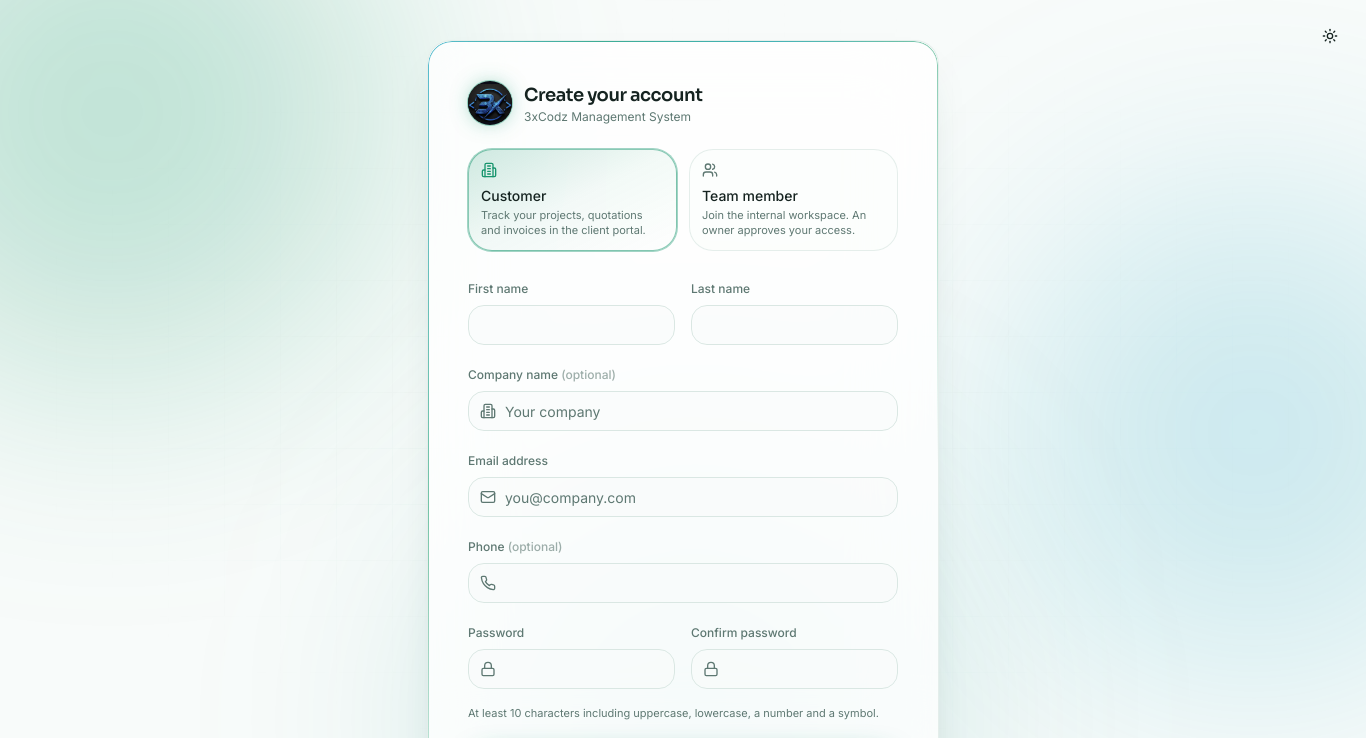
Test: Register › submits a customer registration and confirms the verification email
The image size is (1366, 738).
In the field labelled "First name": {"x": 572, "y": 325} [468, 305, 675, 345], type "Ada"
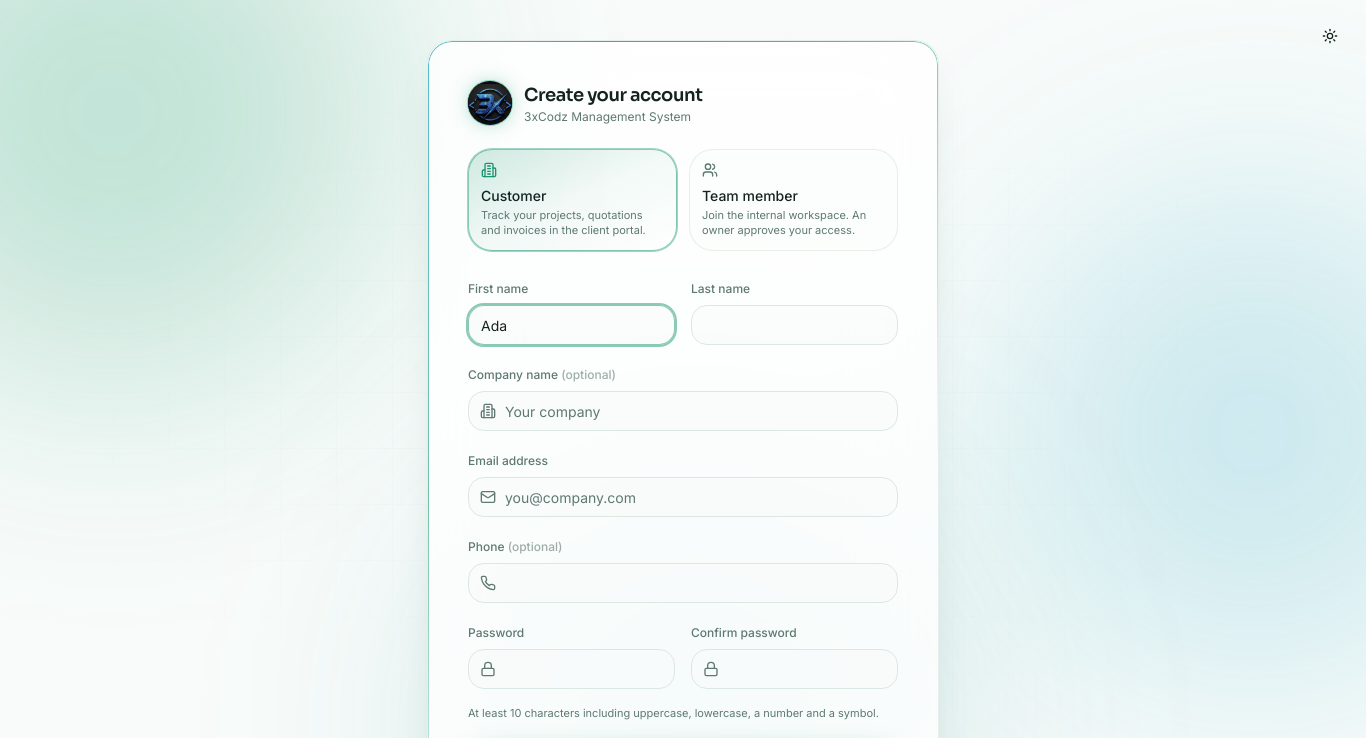
In the field labelled "Last name": {"x": 794, "y": 325} [691, 305, 898, 345], type "Lovelace"
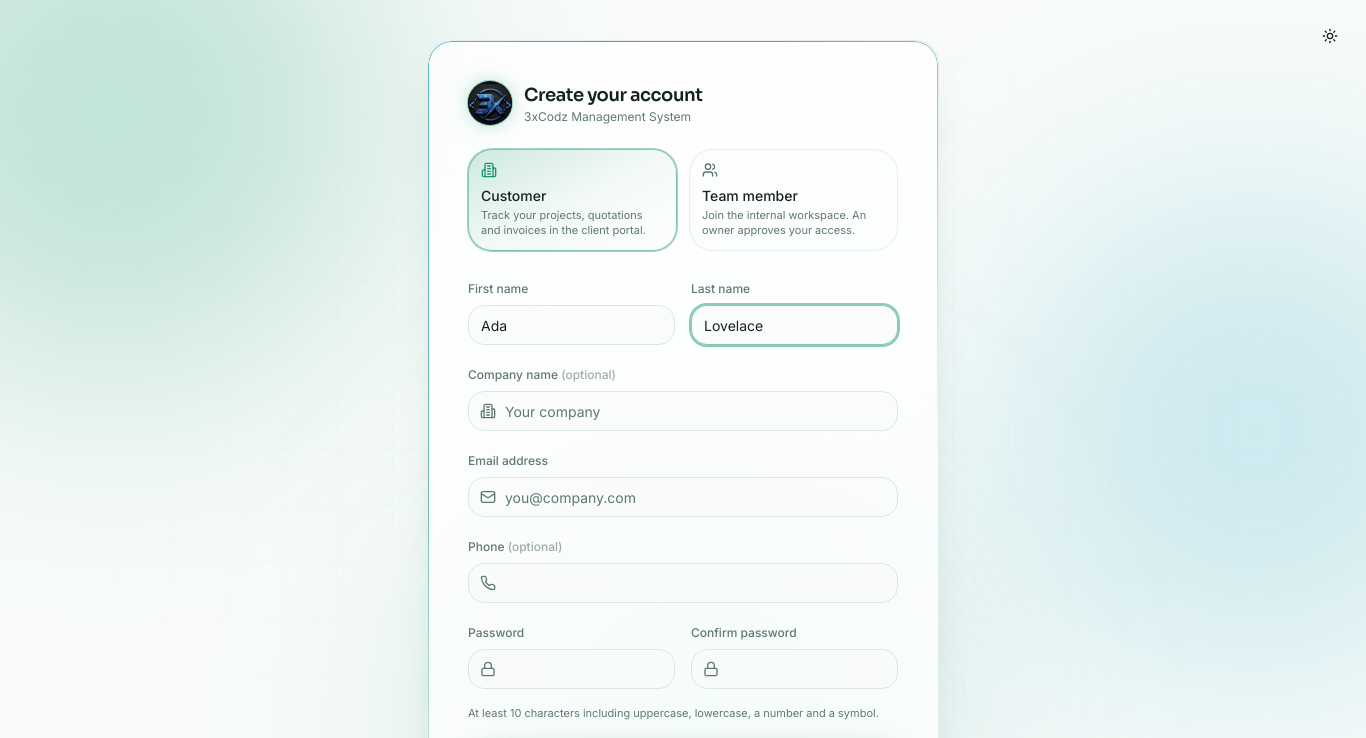
In the field labelled "Email address": {"x": 683, "y": 497} [468, 477, 898, 517], type "ada@example.com"
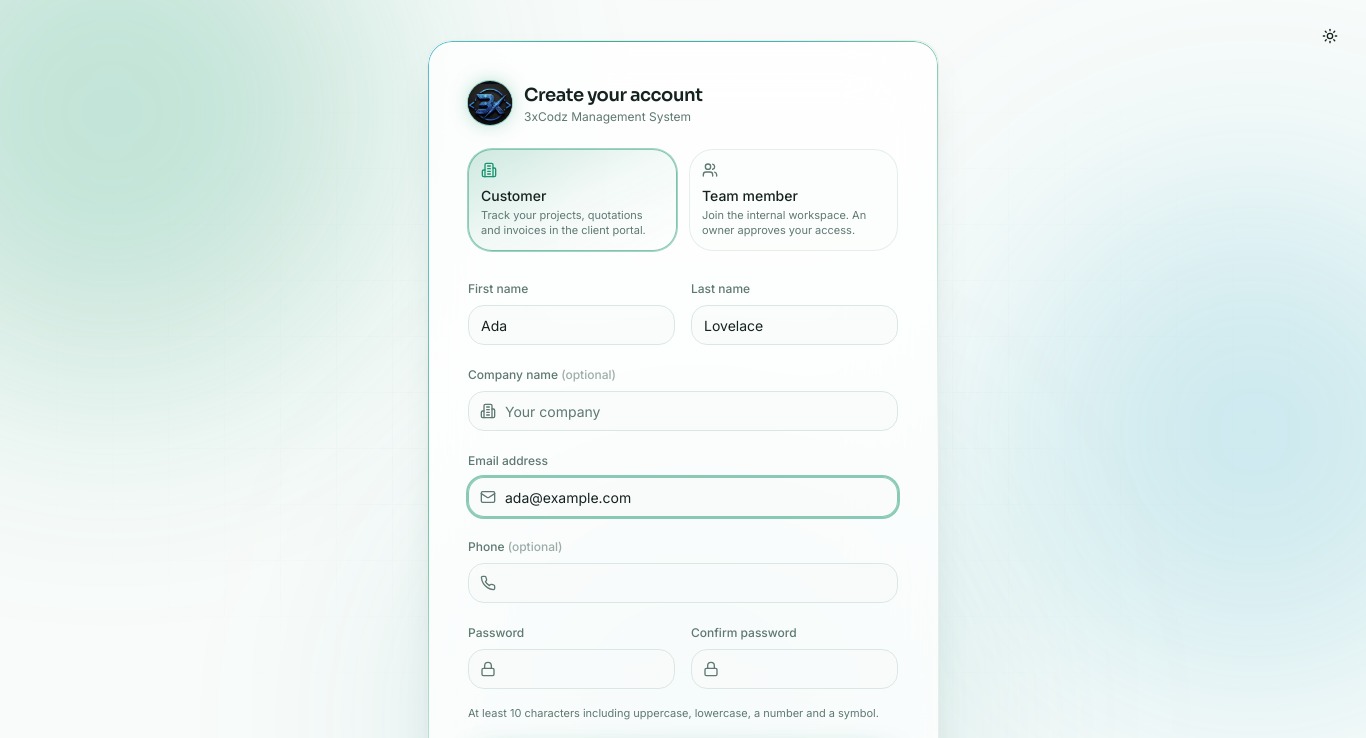
In the password field labelled "Password": {"x": 572, "y": 669} [468, 649, 675, 689], type "Str0ng!Pass123"
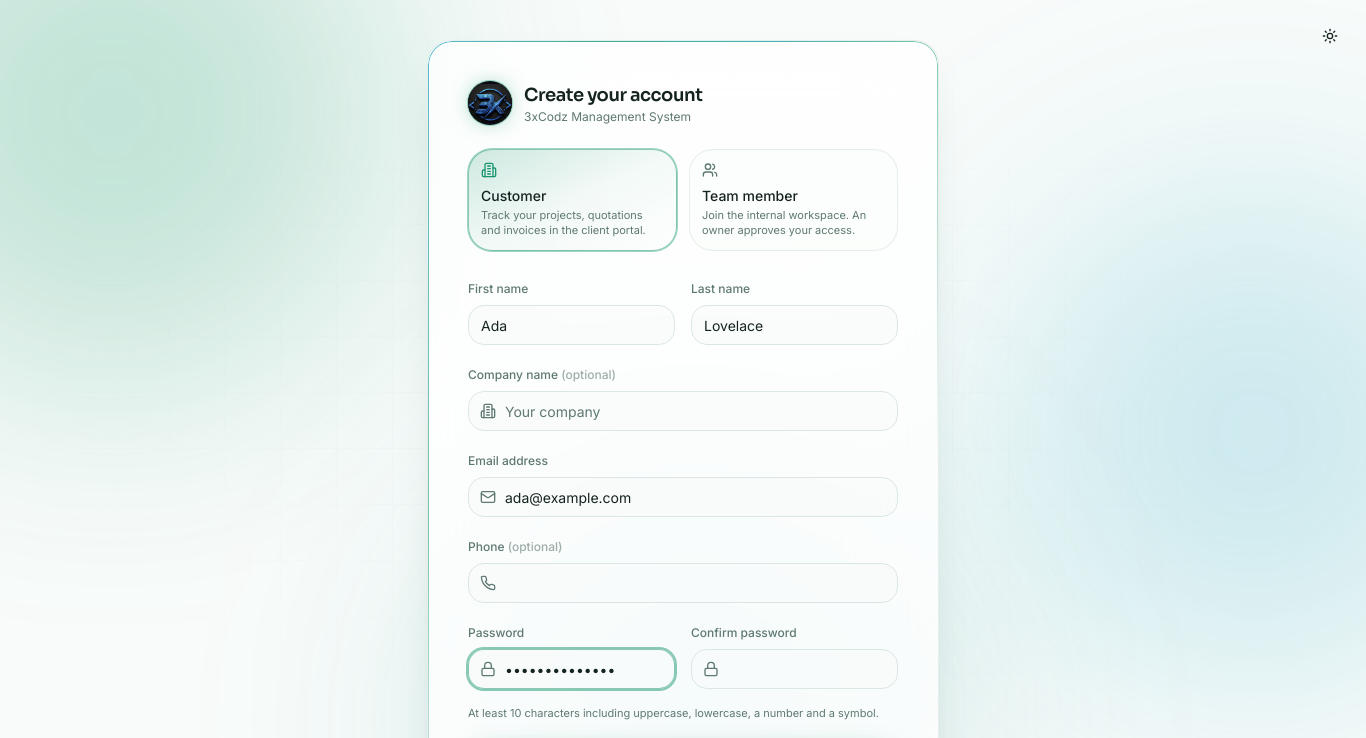
In the password field labelled "Confirm password": {"x": 794, "y": 669} [691, 649, 898, 689], type "Str0ng!Pass123"
(page scrolled)
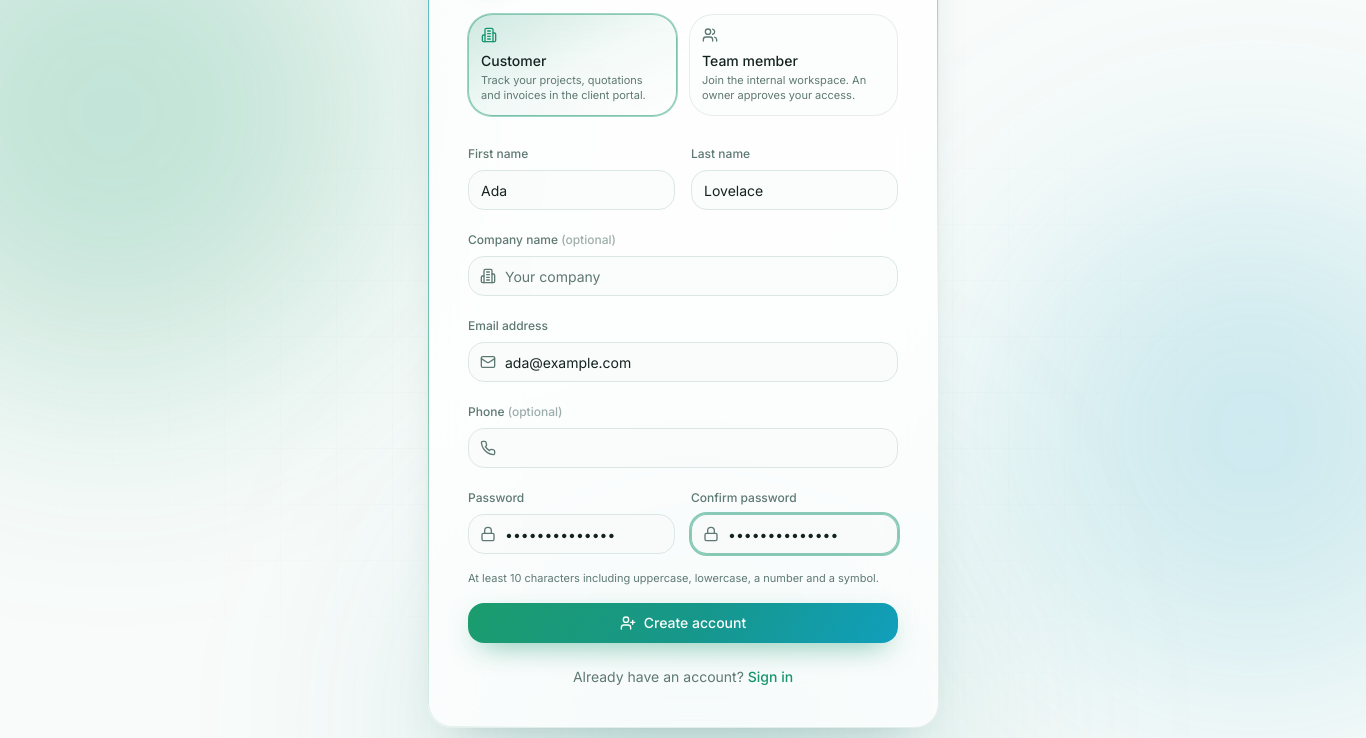
Click the button "Create account": {"x": 683, "y": 623} [468, 603, 898, 643]
(page scrolled)
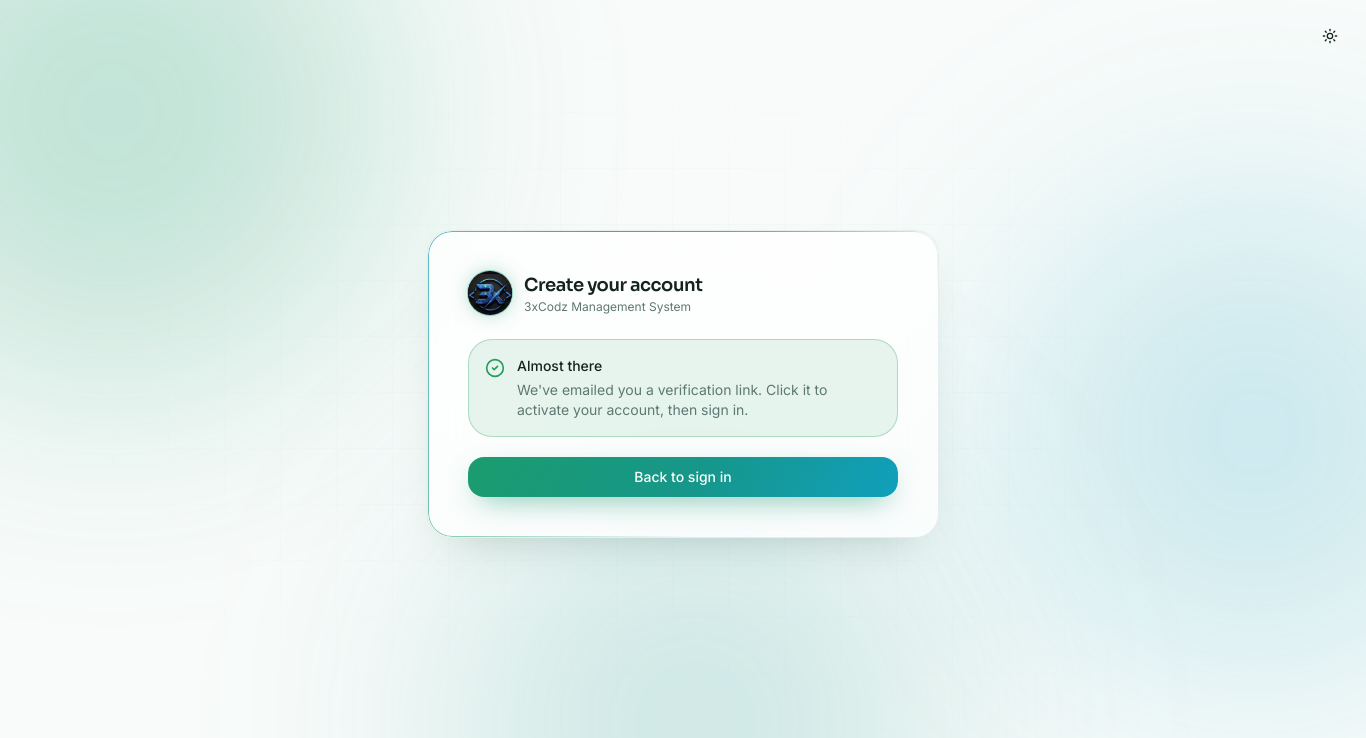
Expected: the text "Almost there" is shown, [517, 357, 602, 374]
